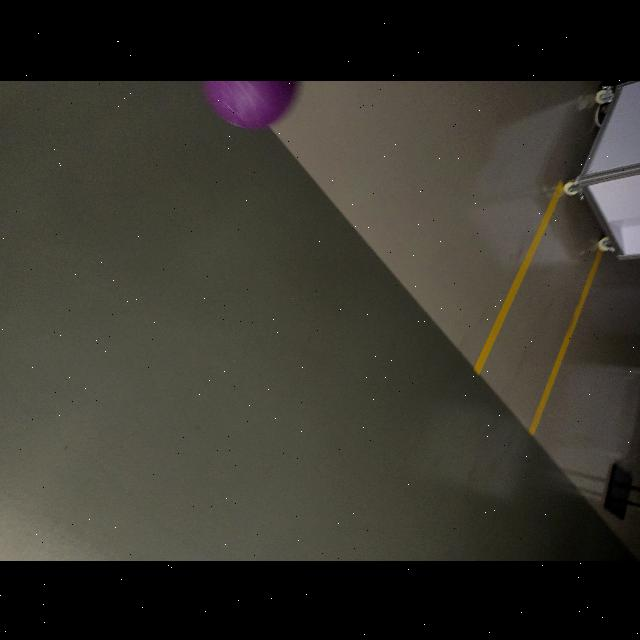P: (198, 80, 296, 130)
